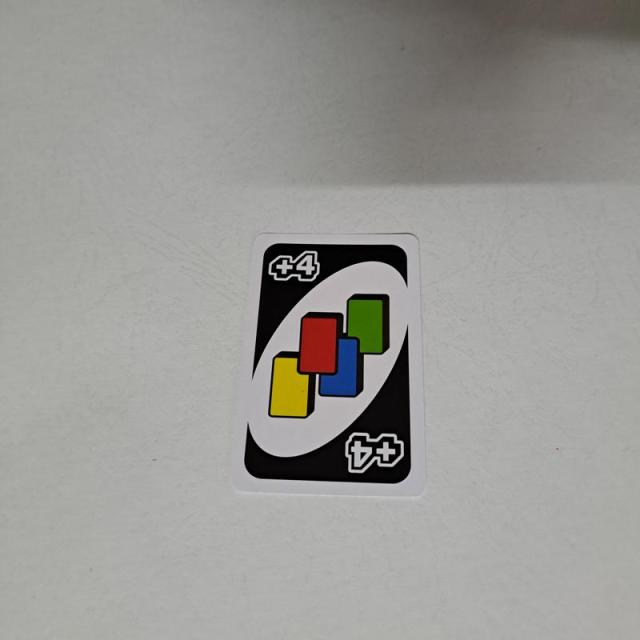Draw_Four: (238, 238, 419, 487)
